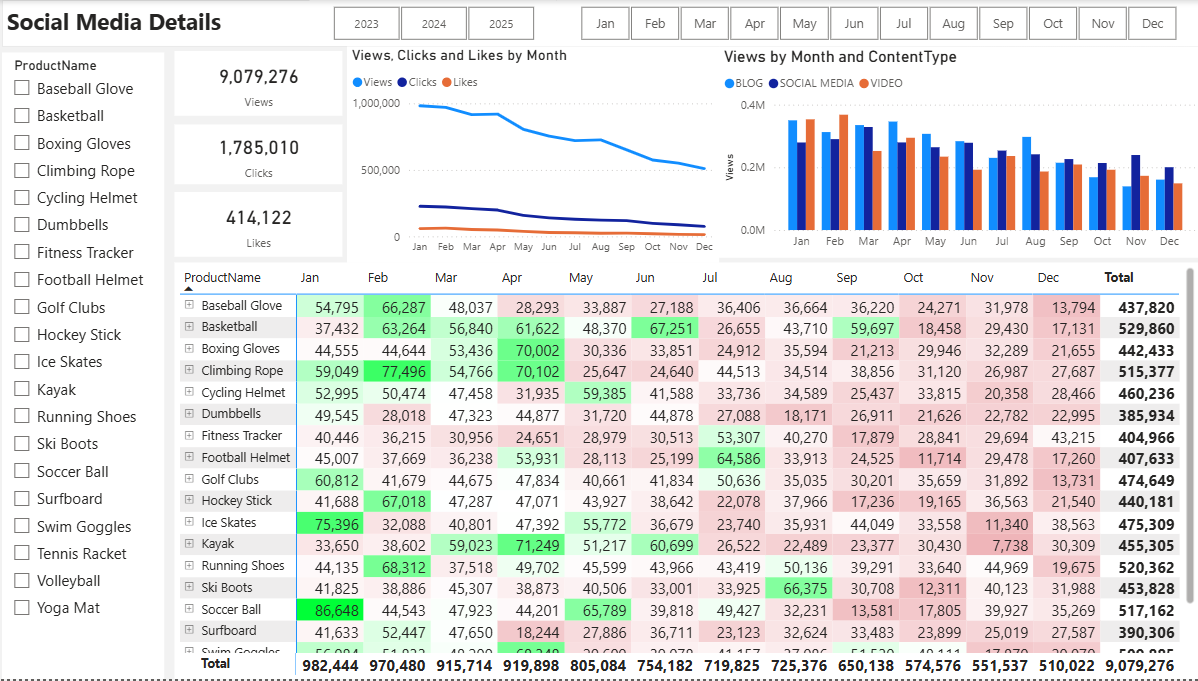

This screenshot's page, from the dashboard's own definition file:
{"tool":"powerbi","page":{"name":"Social Media Details","canvas":[1280,720],"ordinal":2},"visuals":[{"type":"textbox","box":[10.1,0,1269.4,48.8],"z":0},{"type":"slicer","fields":{"Values":["dim_products.ProductName"]},"box":[9.5,55.7,171.8,664.9],"z":1000},{"type":"card","fields":{"Values":["Measure.Views"]},"box":[192.5,54.1,178.1,68.4],"z":2000},{"type":"card","fields":{"Values":["Measure.Clicks"]},"box":[192.5,132,178.1,63.6],"z":3000},{"type":"card","fields":{"Values":["Measure.Likes"]},"box":[192.5,203.6,178.1,68.4],"z":4000},{"type":"slicer","fields":{"Values":["Calendar.Year"]},"box":[336.3,0,262.3,48.8],"z":5000},{"type":"slicer","fields":{"Values":["Calendar.MonthNameShort"]},"box":[598.5,0,680.9,48.8],"z":6000},{"type":"lineChart","title":"Views, Clicks and Likes by Month","fields":{"Y":["Measure.Views","Measure.Clicks","Measure.Likes"],"Category":["Calendar.MonthNameShort"]},"box":[375.4,49.3,394.5,229],"z":7000},{"type":"clusteredColumnChart","title":"Views by Month and ContentType","fields":{"Y":["Measure.Views"],"Category":["Calendar.MonthNameShort"],"Series":["fact_engagement_data.ContentType"]},"box":[781,57.3,499.5,216.3],"z":8000},{"type":"pivotTable","fields":{"Rows":["dim_products.ProductName","fact_engagement_data.ContentType"],"Columns":["Calendar.MonthNameShort"],"Values":["Measure.Views"]},"box":[192.5,278.4,1086.4,442.2],"z":9000}]}

Visuals, with their boxes in screenshot pixels (x1, y1, x2, y2), scaled from the page's 1280x720 canvas onto the 1198x681 screenshot:
textbox: 9 0 1197 46
slicer - dim_products.ProductName: 9 53 170 680
card - Measure.Views: 180 51 347 116
card - Measure.Clicks: 180 125 347 185
card - Measure.Likes: 180 193 347 257
slicer - Calendar.Year: 315 0 560 46
slicer - Calendar.MonthNameShort: 560 0 1197 46
"Views, Clicks and Likes by Month" lineChart: 351 47 721 263
"Views by Month and ContentType" clusteredColumnChart: 731 54 1197 259
pivotTable - dim_products.ProductName x fact_engagement_data.ContentType: 180 263 1197 680
